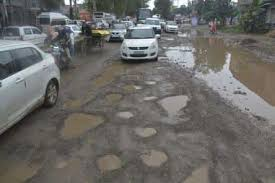pothole: (194, 73, 275, 127), (160, 40, 271, 70), (1, 146, 56, 183), (142, 93, 191, 122), (57, 111, 105, 138), (63, 91, 123, 109), (116, 74, 159, 92), (181, 163, 212, 183), (95, 152, 123, 172), (140, 149, 169, 167), (94, 63, 114, 85), (135, 126, 159, 141), (116, 110, 138, 121)
